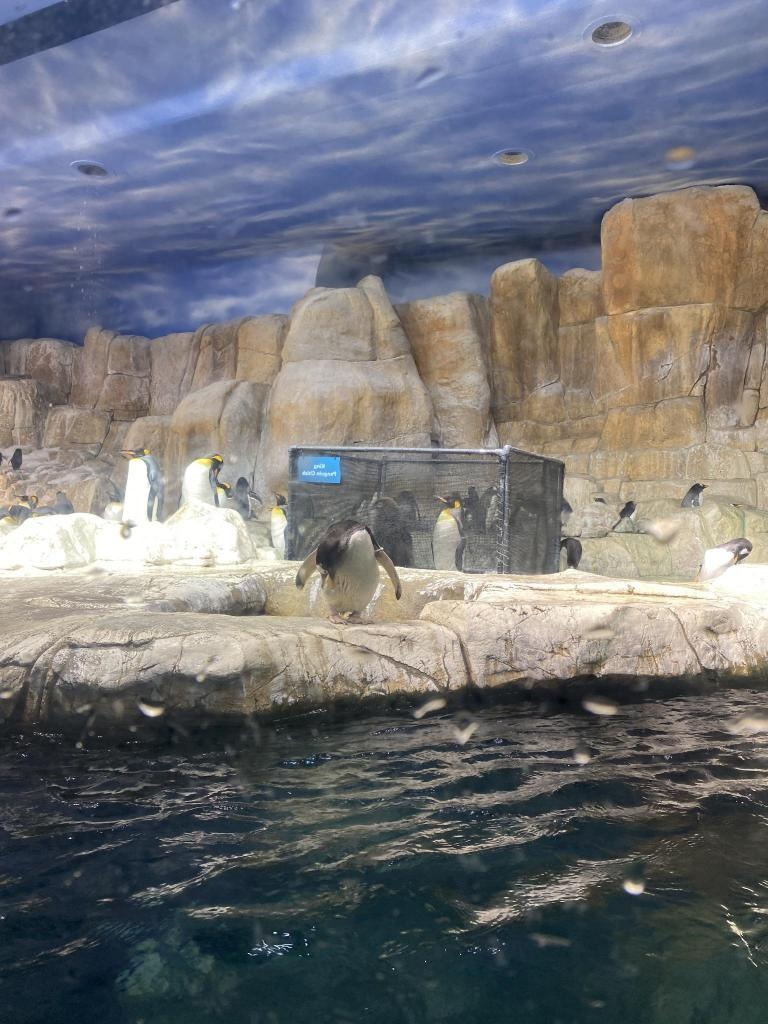penguin: (300, 523, 388, 623), (420, 490, 473, 576), (118, 441, 167, 531), (177, 450, 223, 514), (694, 534, 754, 578), (268, 488, 293, 558), (228, 470, 260, 524), (553, 537, 583, 575), (10, 495, 38, 527), (680, 478, 706, 512), (51, 484, 72, 520), (8, 447, 26, 473), (619, 500, 633, 522)
